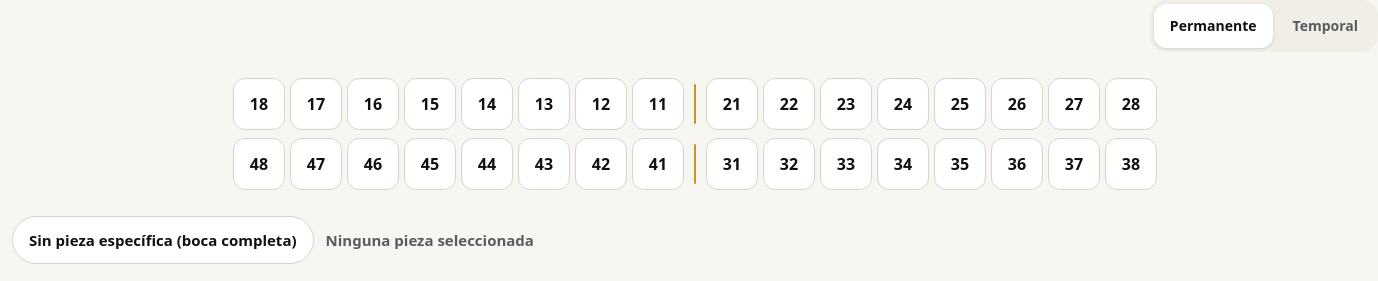
it: ToothPicker › cambia a dentición temporal
Click the radio button labelled "Temporal" at (1325, 26), box [1276,4,1374,48]
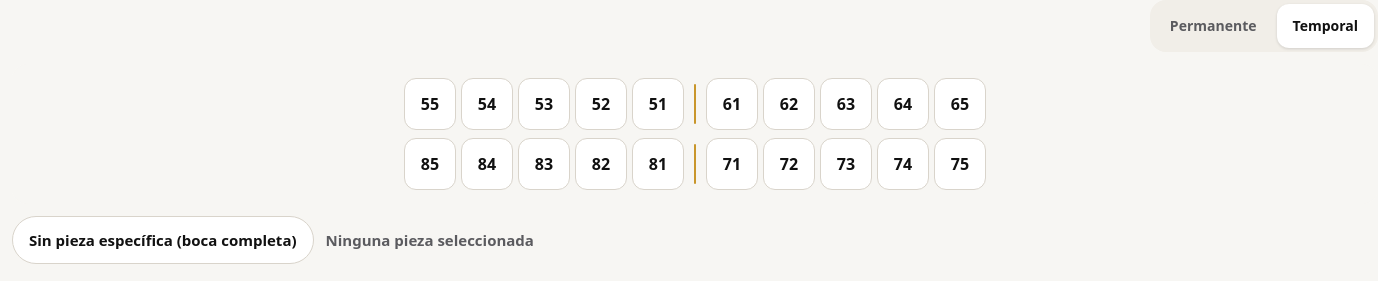
Expected: the button named "Pieza 55" is shown, [404,78,456,130]
